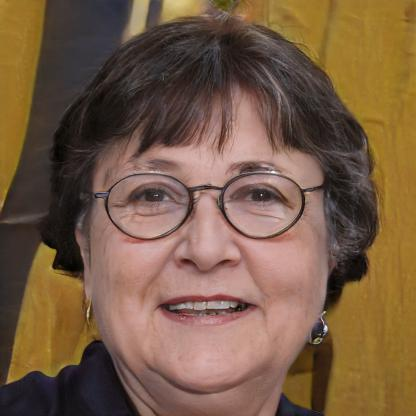glasses: (93, 169, 324, 245)
